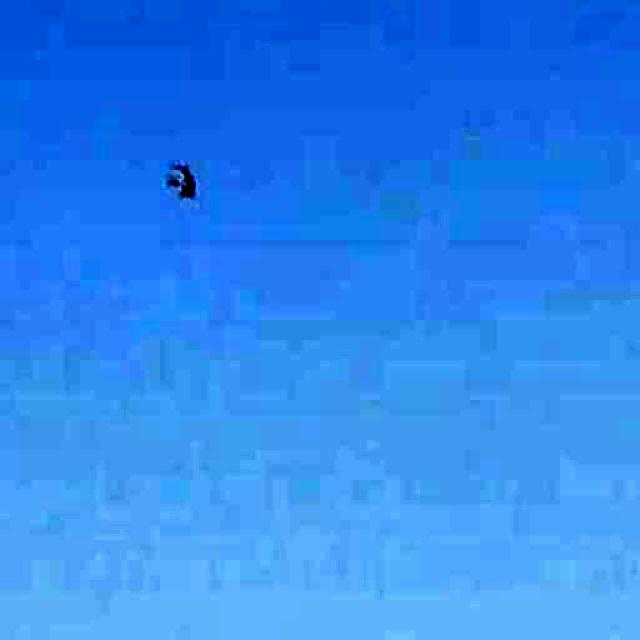drone: (136, 134, 236, 218)
